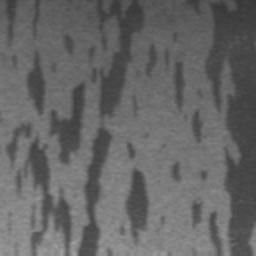Red iron sheet: (6, 0, 256, 256), (125, 170, 150, 241), (6, 0, 41, 41), (172, 160, 180, 179), (200, 170, 209, 179)
